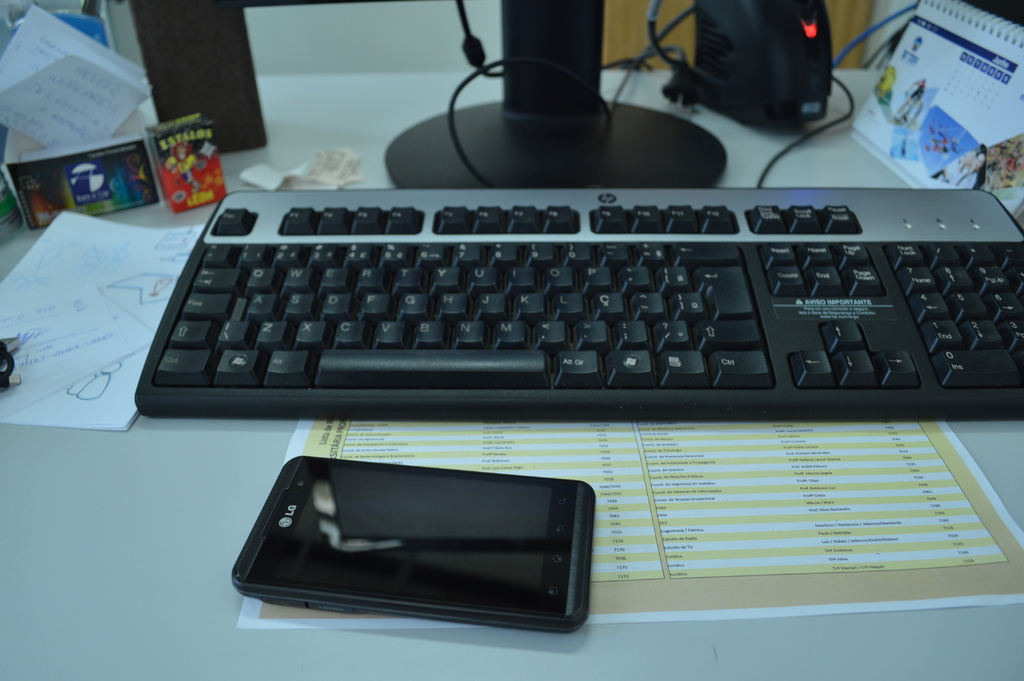Mobile-phone: (224, 458, 612, 644)
